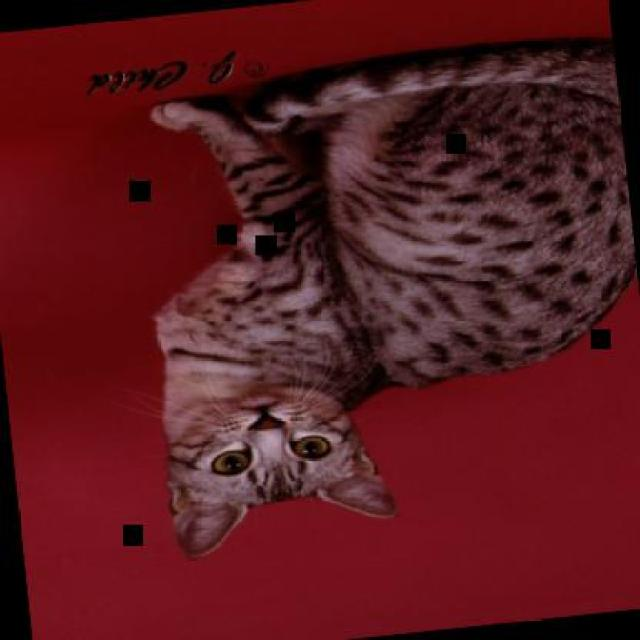cat: (120, 29, 638, 565)
